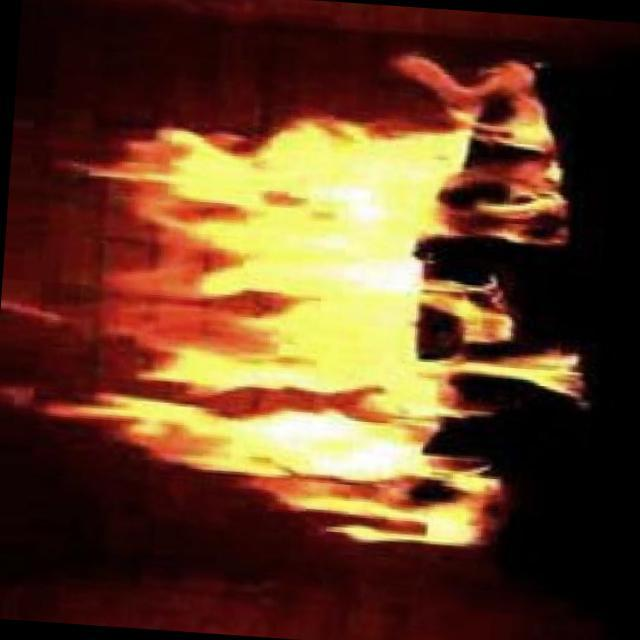Fire: (91, 133, 538, 536)
